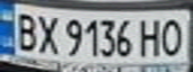1: (81, 16, 100, 57)
3: (97, 16, 118, 58)
6: (115, 16, 139, 58)
9: (60, 15, 84, 57)
B: (9, 8, 42, 53)
H: (136, 15, 163, 57)
O: (157, 15, 187, 57)
X: (33, 11, 60, 55)
